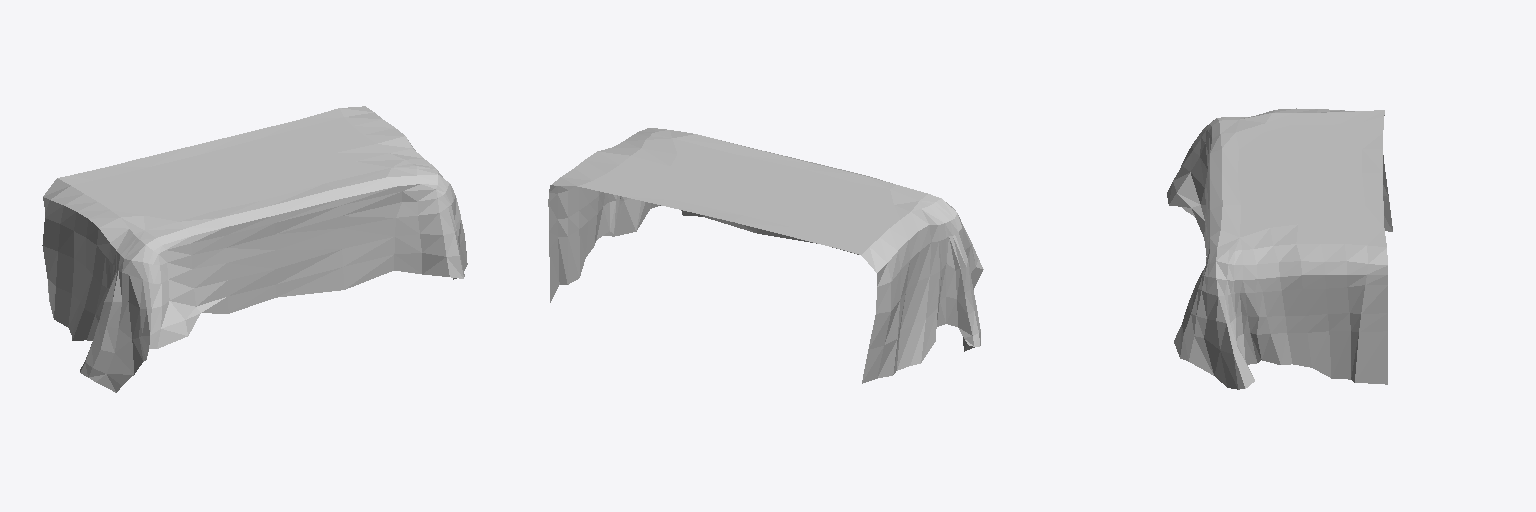
The model's file is Table_Banquet_geo.obj.
3 views of the same model, side by side, from view 1: azimuth 30°, elevation 25°; view 2: azimuth 150°, elevation 25°; view 3: azimuth 270°, elevation 25° (orthographic).
Visible parts, largest first — view 1: REDO:pPlane1; view 2: REDO:pPlane1; view 3: REDO:pPlane1.
Boxes of the visible parts, x1=… form: REDO:pPlane1: x1=42, y1=106, x2=467, y2=392; REDO:pPlane1: x1=548, y1=128, x2=983, y2=383; REDO:pPlane1: x1=1167, y1=108, x2=1392, y2=389.
Size of the model in its own units: 418 by 156 by 211.